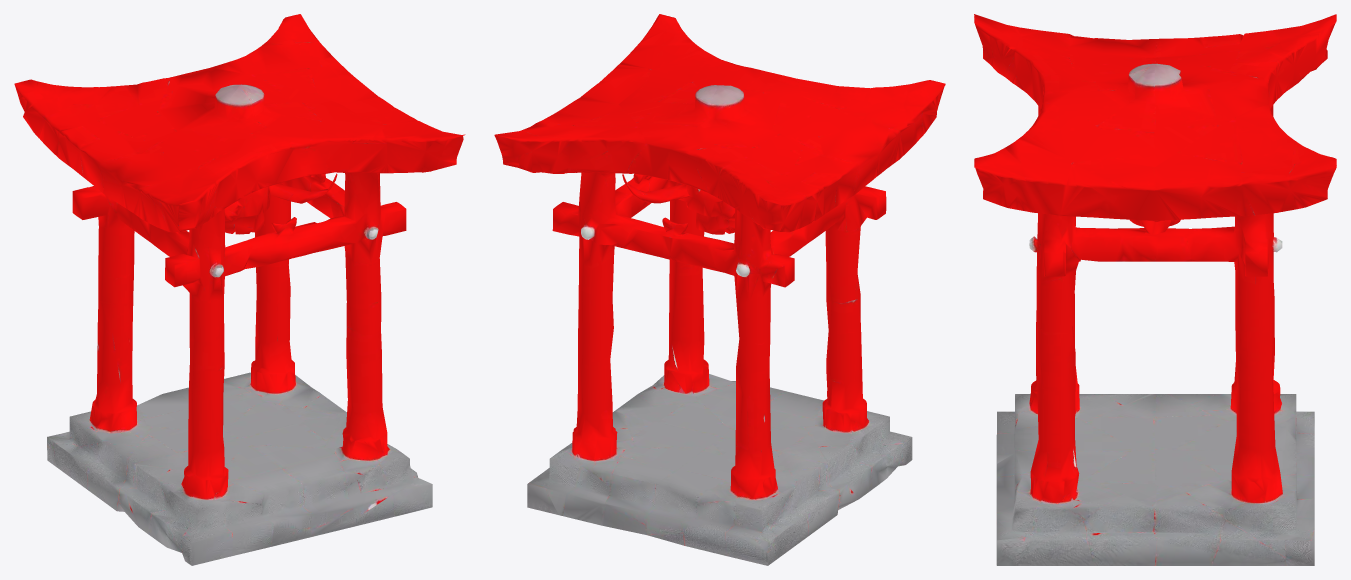
File: torii_gate_small.glb
The picture shows the model from 3 angles, left to right: view 1: azimuth 30°, elevation 25°; view 2: azimuth 150°, elevation 25°; view 3: azimuth 270°, elevation 25°; orthographic projection. The views are drawn at different scales.
Bounding box in the file's own units: 1.43 × 1.9 × 1.43.
1 material, 1 textured.
